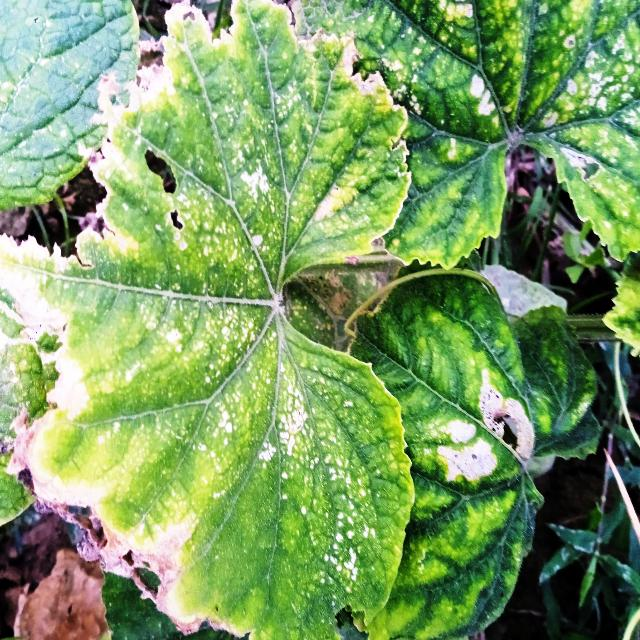Anthracnose: (142, 143, 192, 232), (488, 403, 530, 456)
